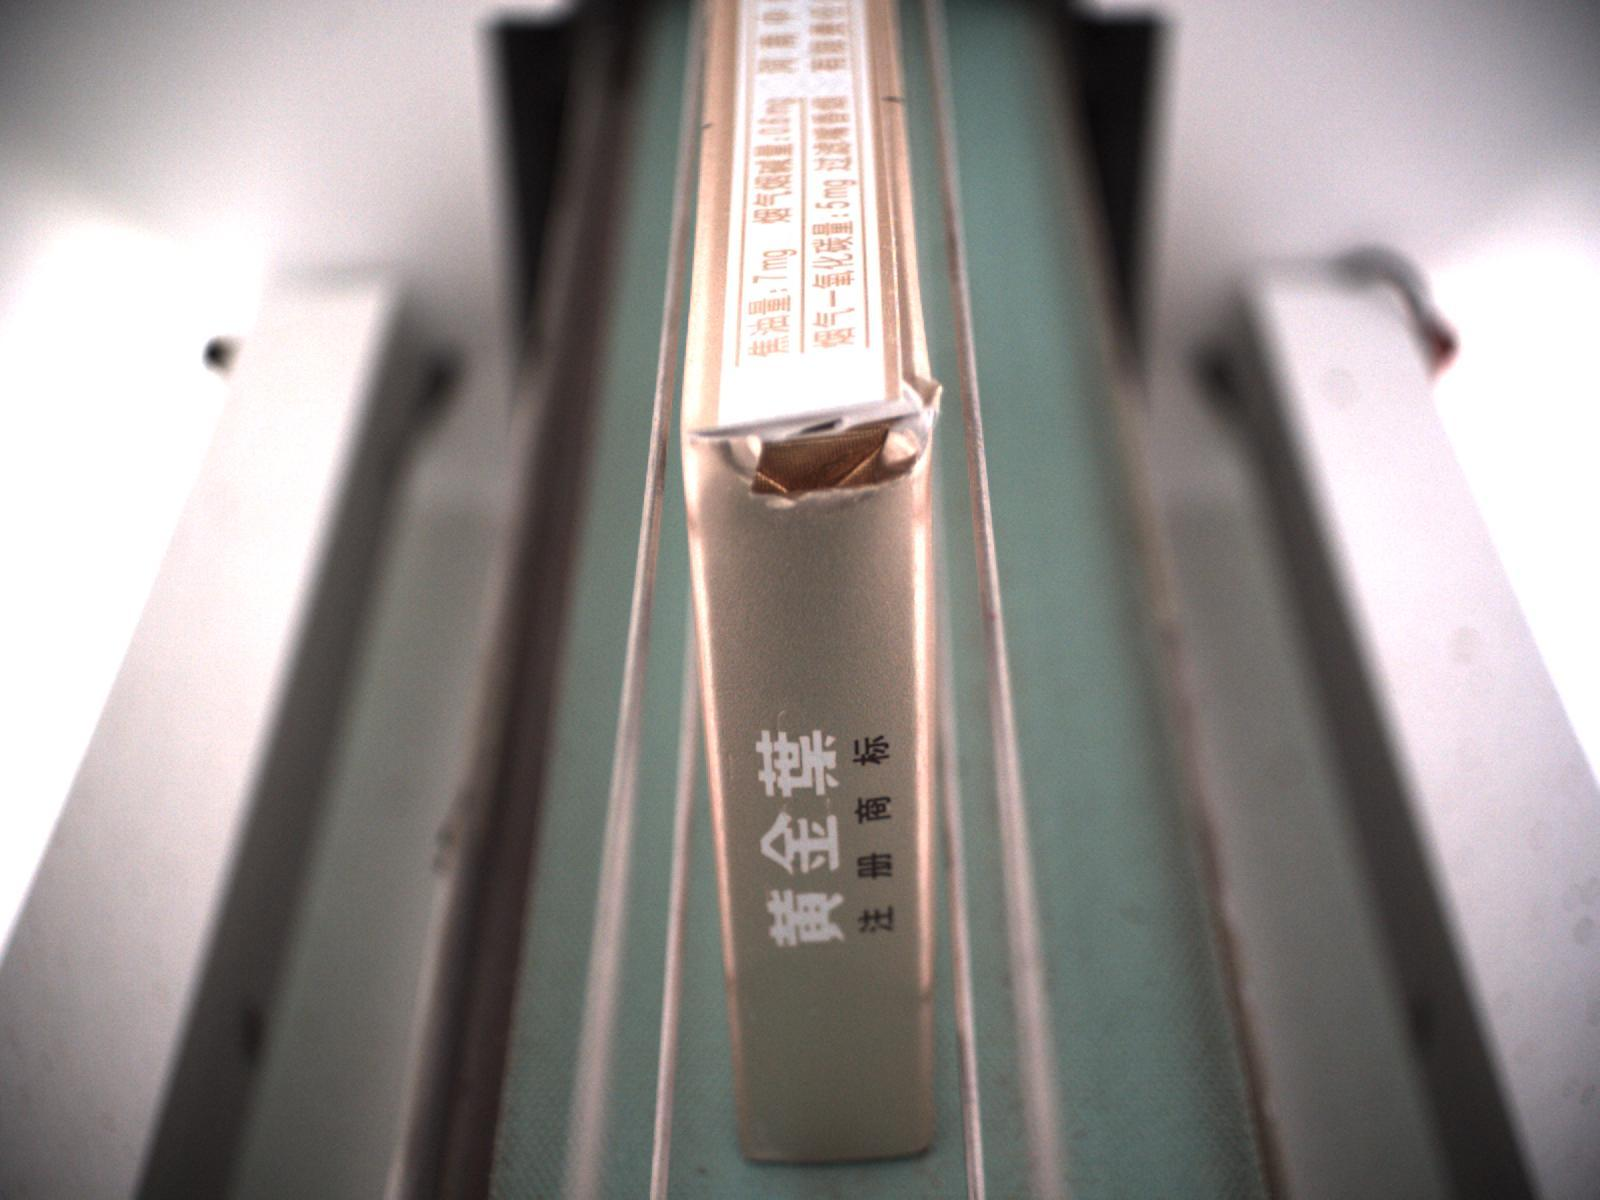headOpen_upper: (680, 383, 943, 515)
